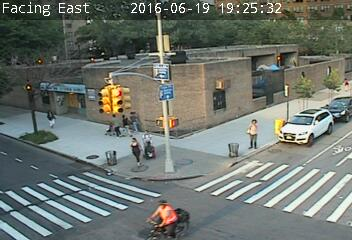neg: (148, 195, 179, 237)
pos: (119, 134, 144, 168), (241, 116, 266, 149), (134, 127, 158, 159), (124, 107, 142, 132), (104, 113, 122, 137), (116, 113, 134, 137), (43, 107, 59, 129)
